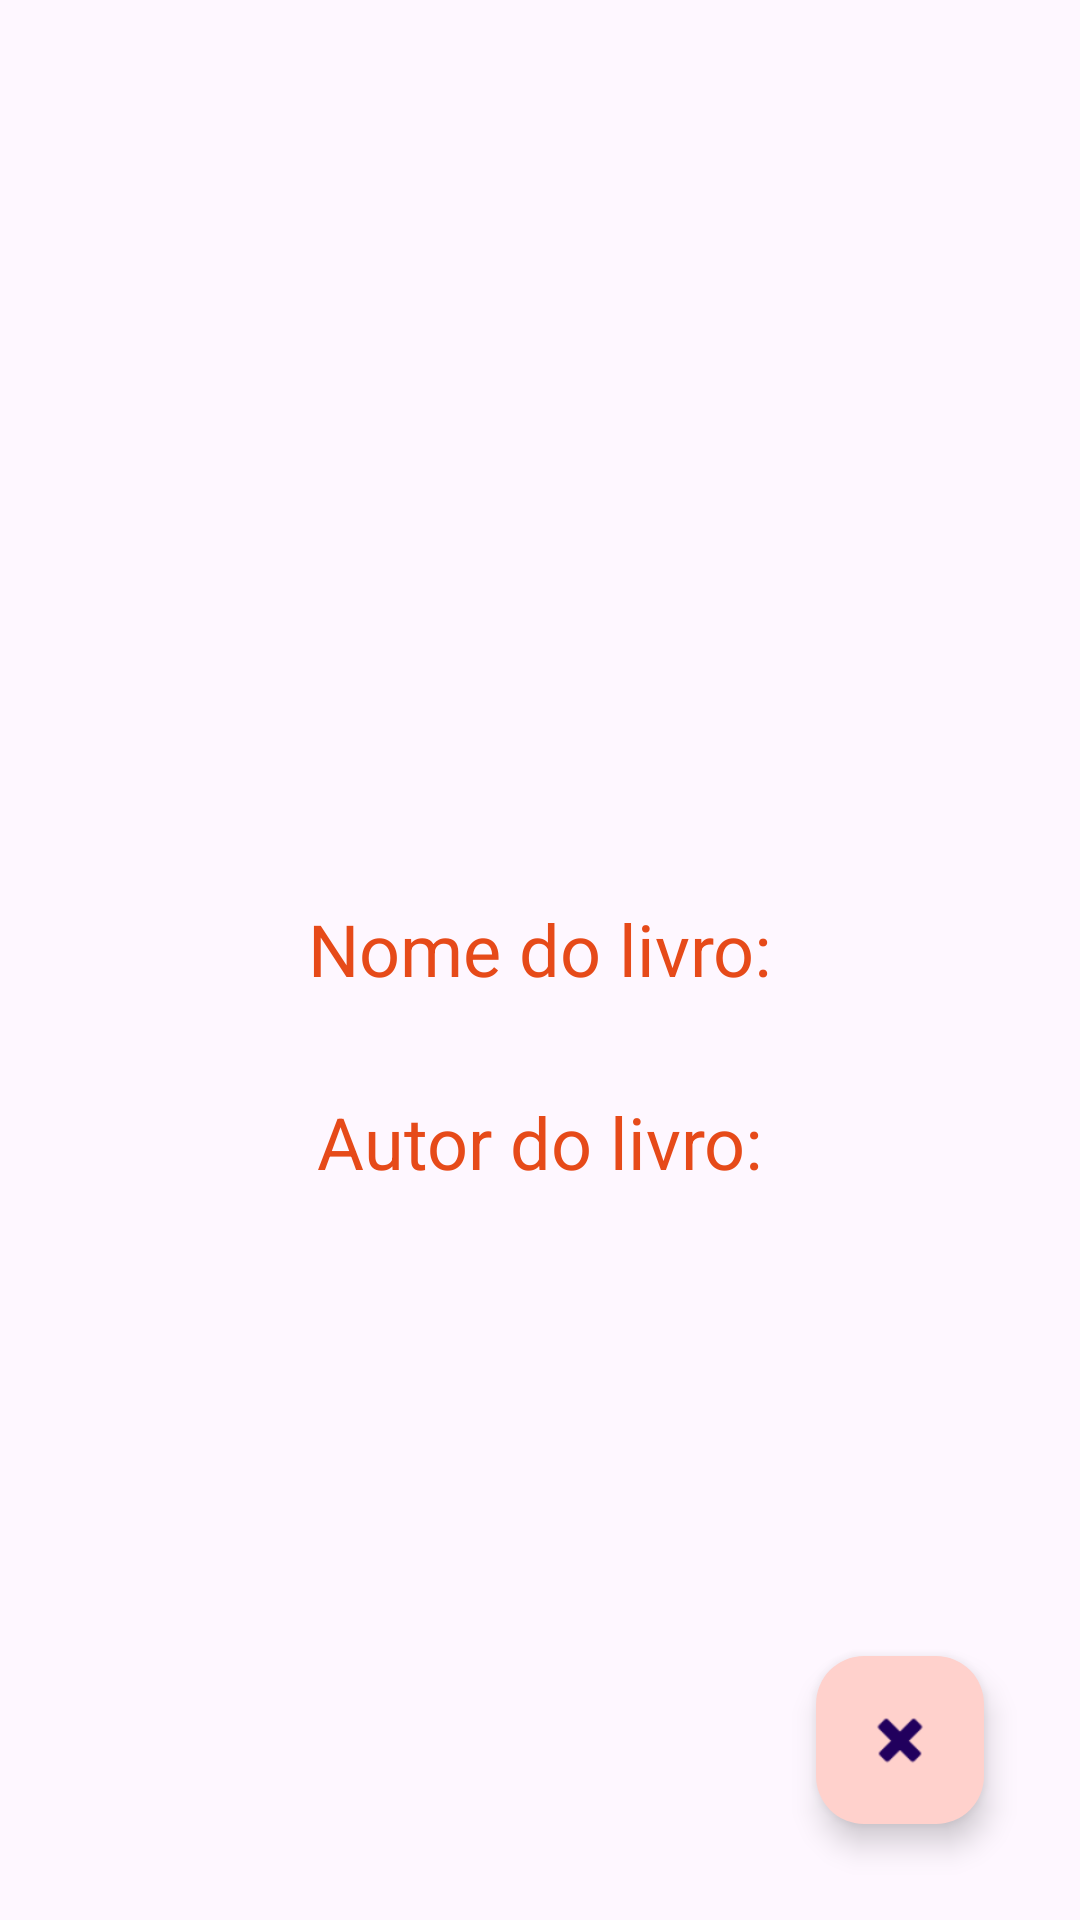

Named icons in this screenshot (1080w x 1920h) and their centers, [x,y]:
Volta tela: [900,1740]
